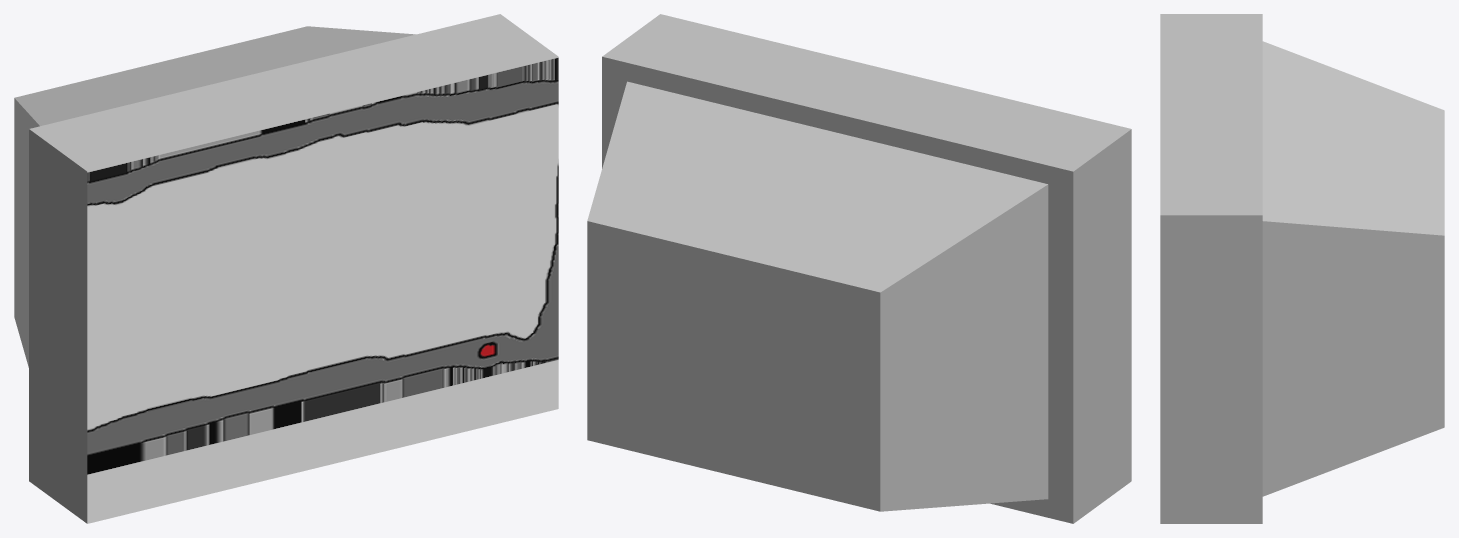
File: Oldtv.fbx
3 views of the same model, side by side, from view 1: azimuth 30°, elevation 25°; view 2: azimuth 150°, elevation 25°; view 3: azimuth 270°, elevation 25° (orthographic). The views are drawn at different scales.
Parts seen in each view (by area): view 1: TV; view 2: TV; view 3: TV.
Part boxes in pixels (x1,y1,x2,y2): TV: (14,14,558,523); TV: (587,14,1131,523); TV: (1160,14,1444,523).
Size of the model in its own units: 280 by 200 by 167.
